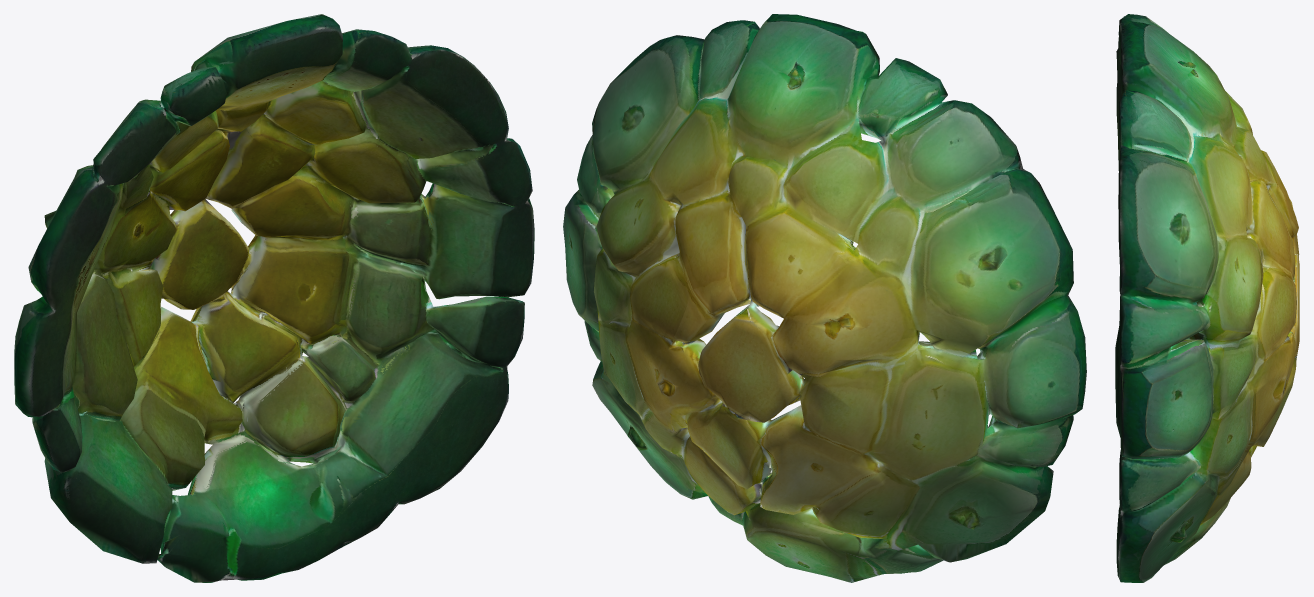
The model's file is Emerald Crystal 3.fbx.
3 renders of one model, left to right at view 1: azimuth 30°, elevation 25°; view 2: azimuth 150°, elevation 25°; view 3: azimuth 270°, elevation 25°, orthographic. The views are drawn at different scales.
Visible parts, largest first — view 1: texture_mapping; view 2: texture_mapping; view 3: texture_mapping.
Boxes of the visible parts, x1,y1,x2,y2 form: texture_mapping: [14, 14, 534, 582]; texture_mapping: [563, 14, 1086, 582]; texture_mapping: [1115, 14, 1299, 582].
Bounding box in the file's own units: 5.88 × 5.99 × 1.9.
1 material, 1 textured.
